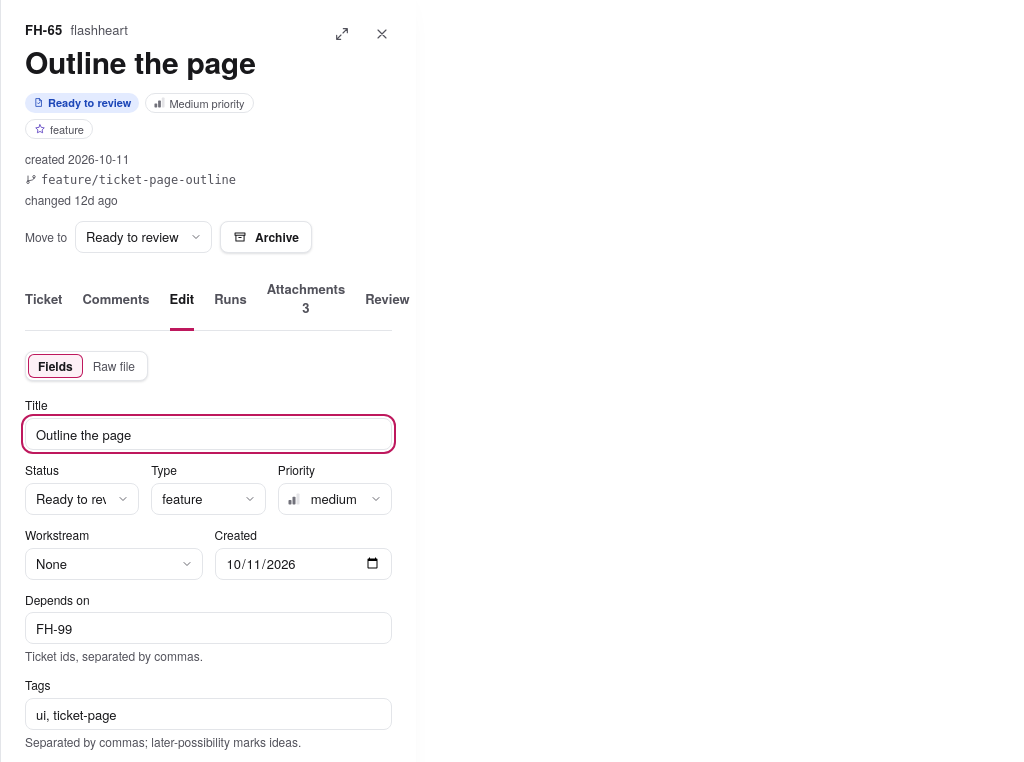
it: the card panel's Edit tab with unsaved changes (FH-138) › shows the Edit tab again when a save made before a tab switch meets a conflict
Select "high" in the dropdown labelled "Priority": (335, 499) 278,483 -> 392,515
(page scrolled)
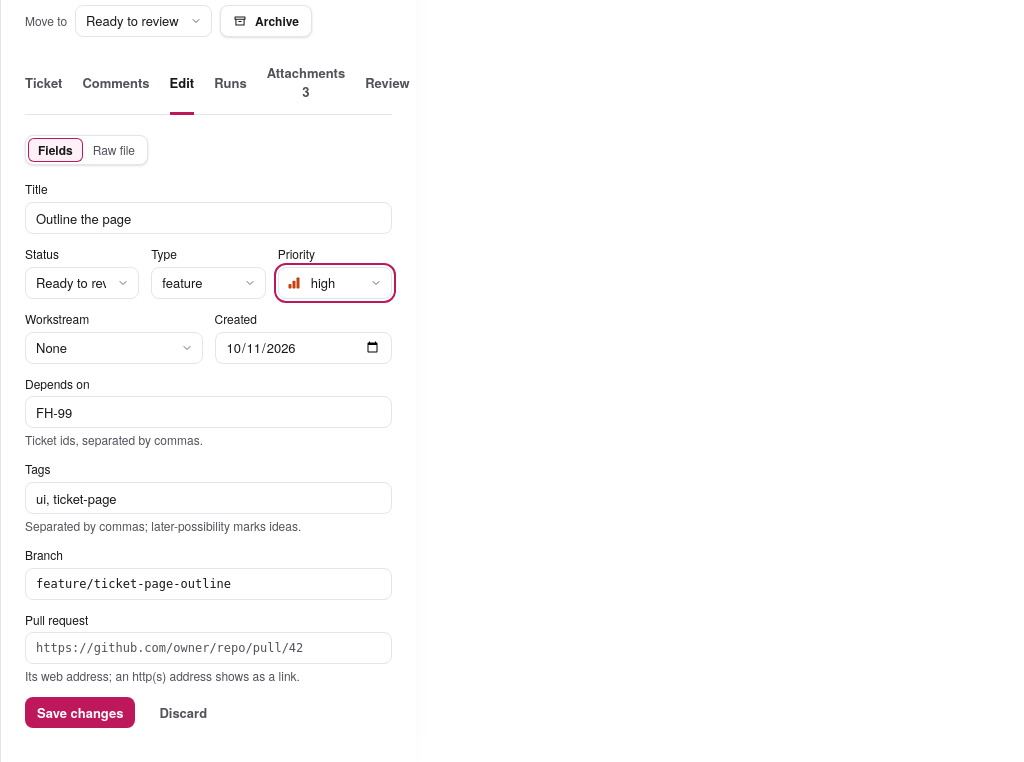
Click the button "Save changes": click(80, 713) 25,697 -> 135,728
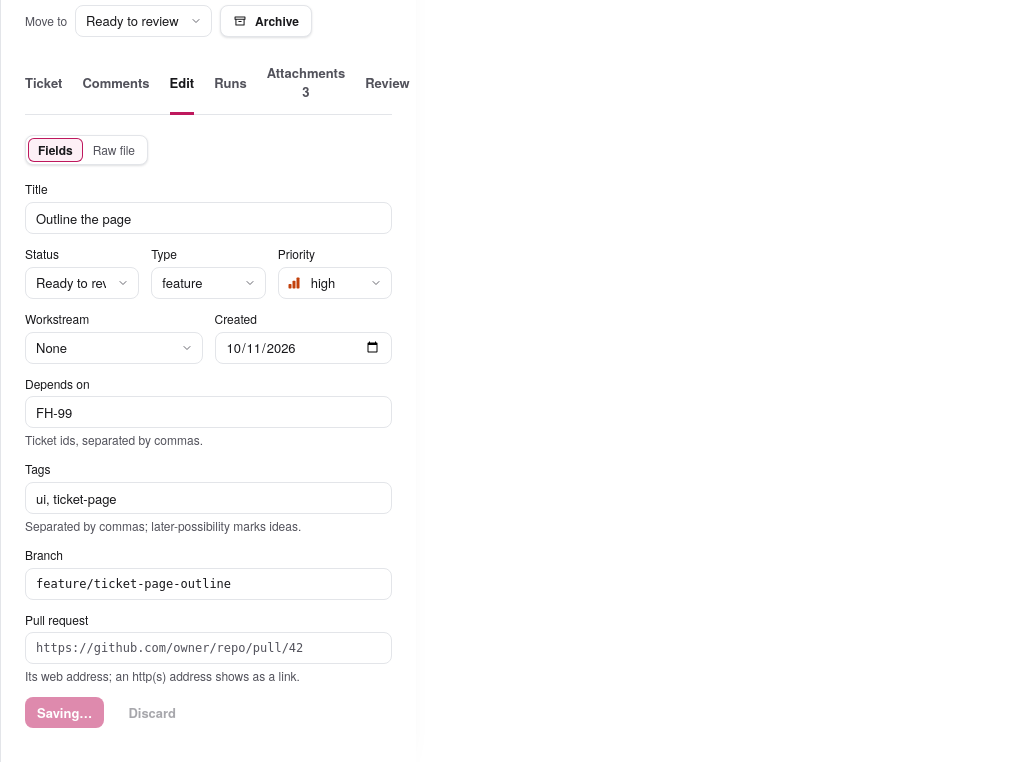
Click the tab "Ticket": click(44, 84) 25,53 -> 62,114
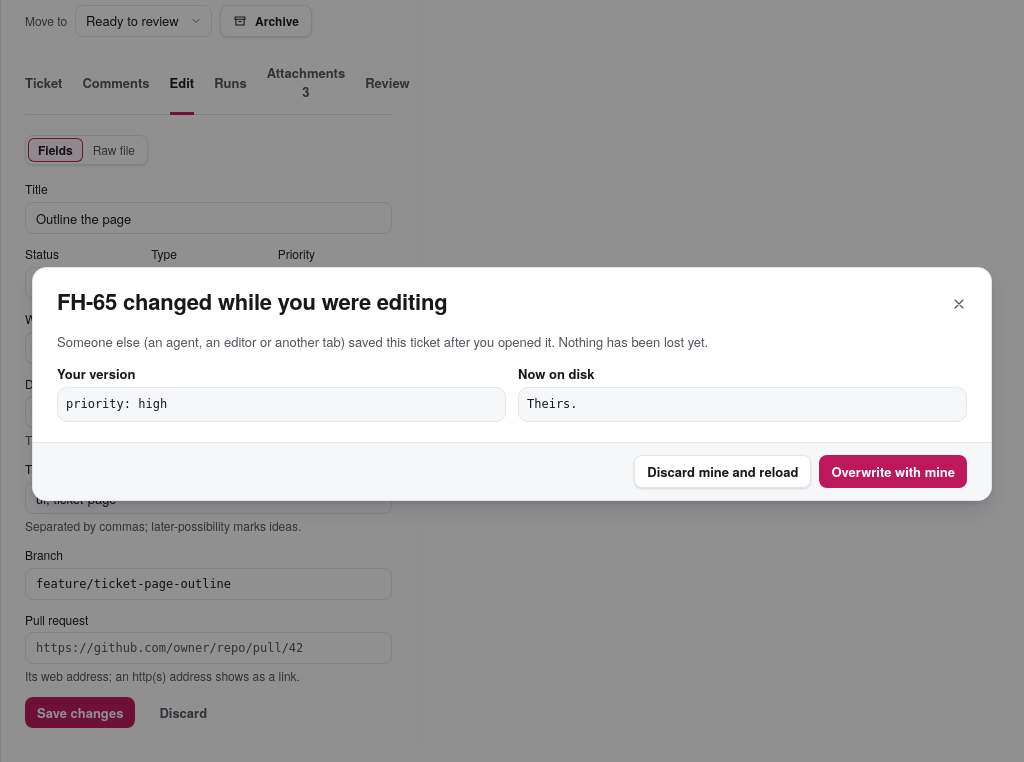
Result: the dialog "FH-65 changed while you were editing" is shown at 32,267 -> 992,501
